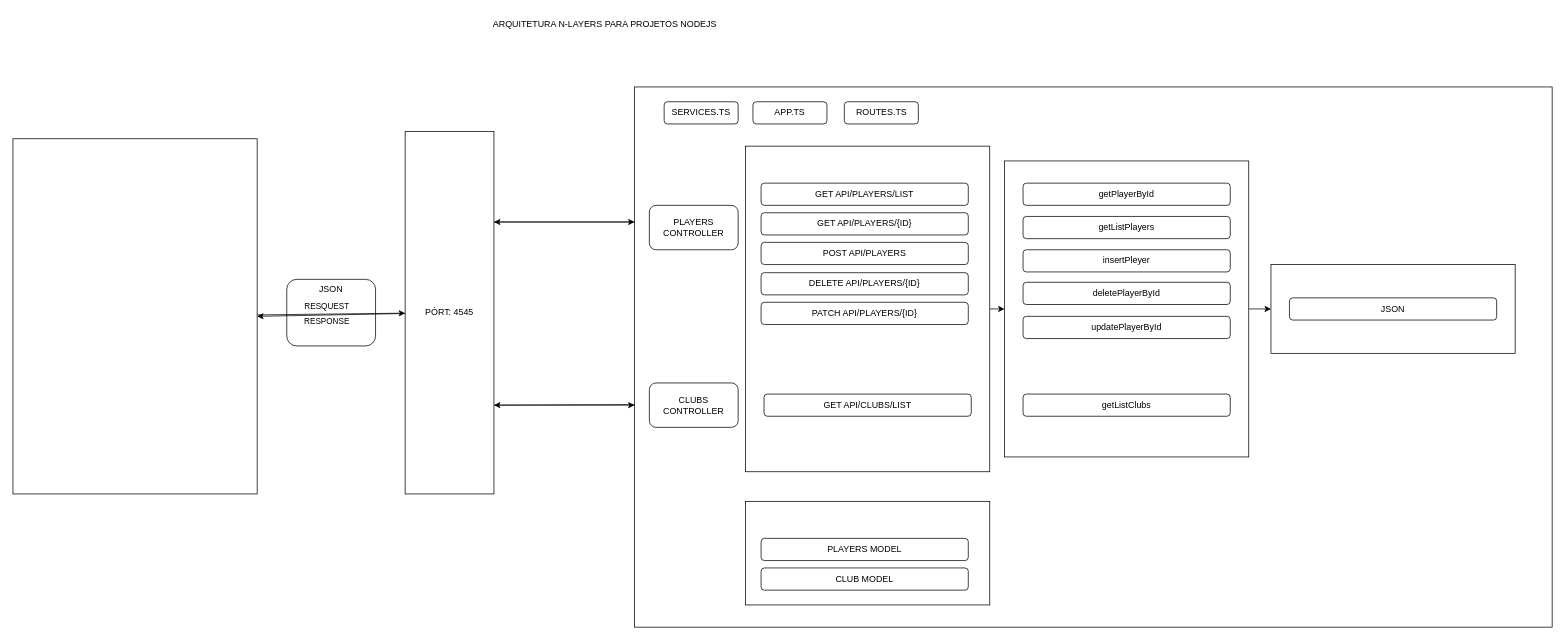
The diagram is 1565 pixels wide and 640 high, and some of its shapes have lost their labels. Here are the shapes that lost their labels. From the top down, the box of each, then its label:
(12, 138, 257, 494): CLIENT
(745, 145, 990, 472): SERVICES
(1004, 160, 1249, 457): REPOSITORIES
(1270, 264, 1515, 353): DATA
(745, 501, 990, 605): MODELS
